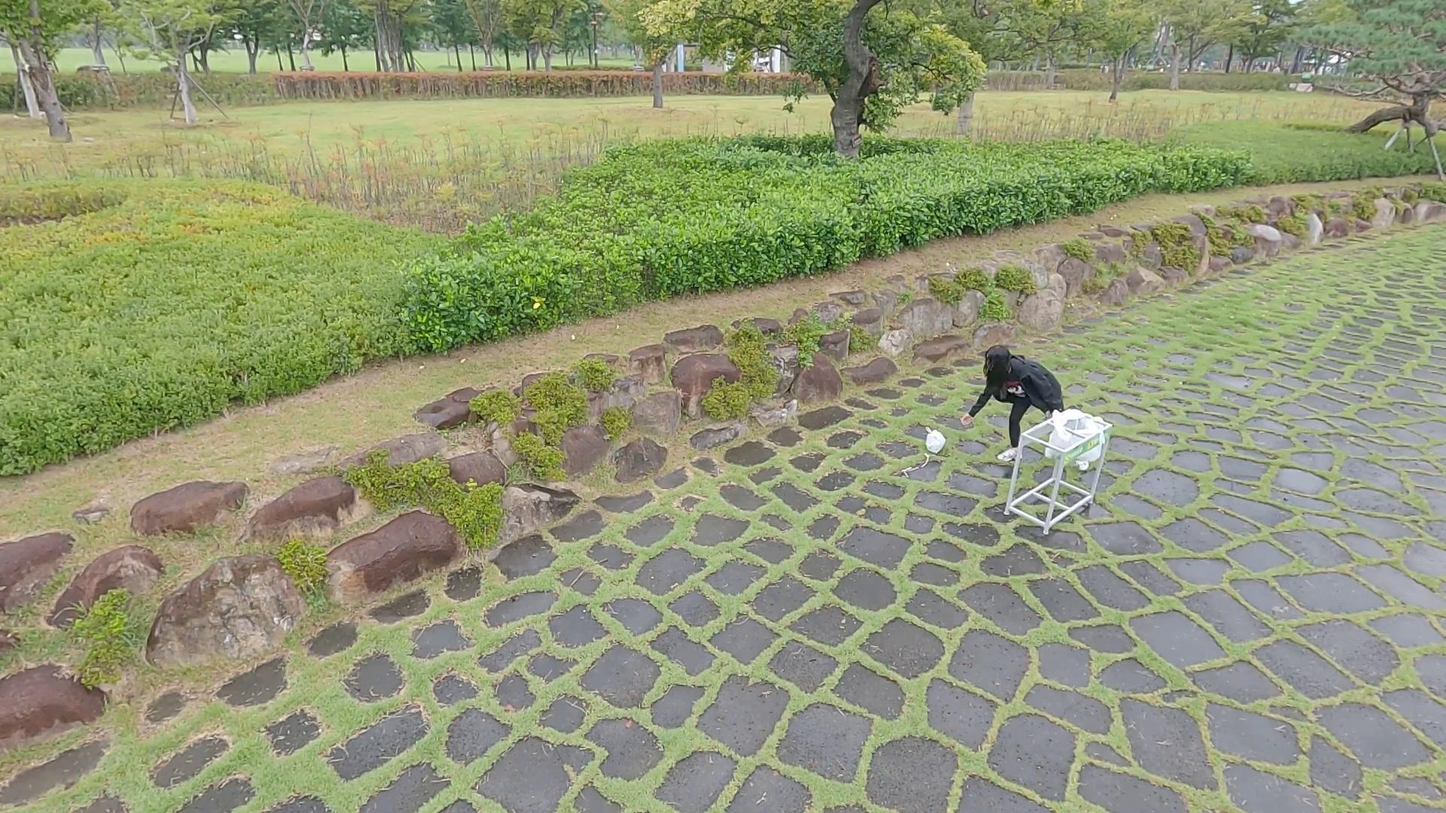person: (959, 344, 1064, 463)
trash: (925, 425, 947, 455)
